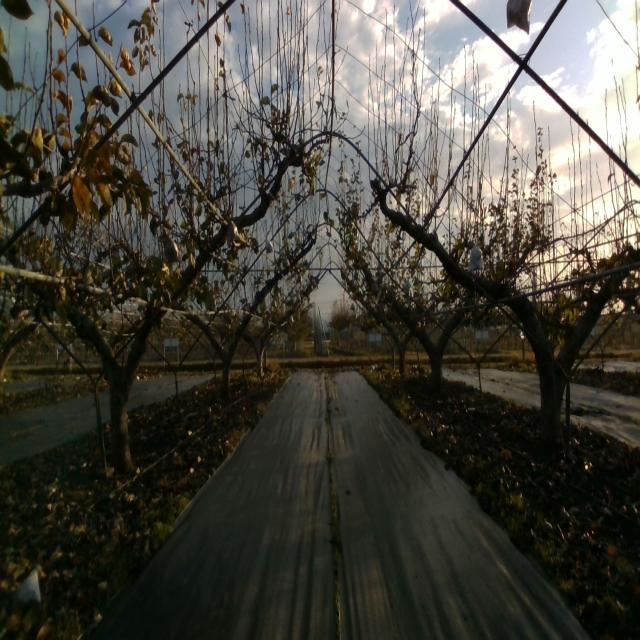pearbags: (164, 236, 182, 266), (468, 245, 484, 273), (224, 219, 238, 245)
